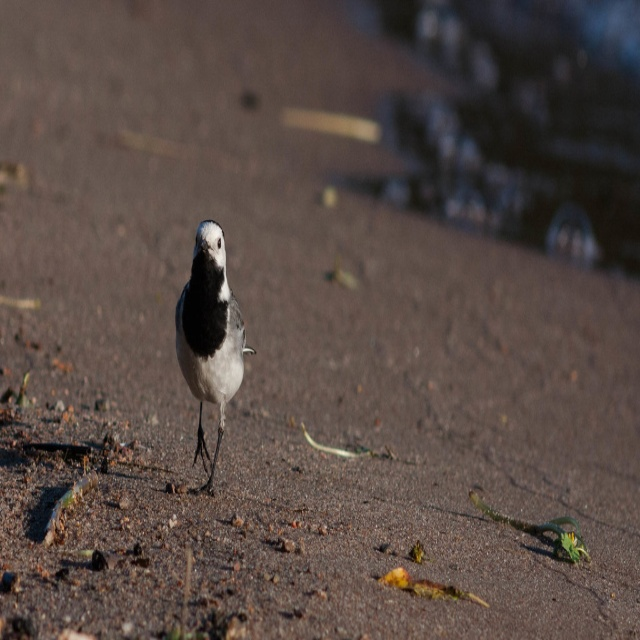Magpie: (177, 223, 256, 500)
